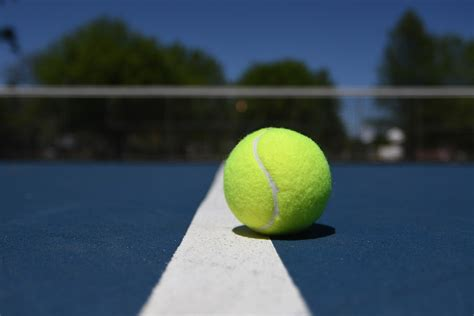tennis_ball: (223, 126, 333, 236)
